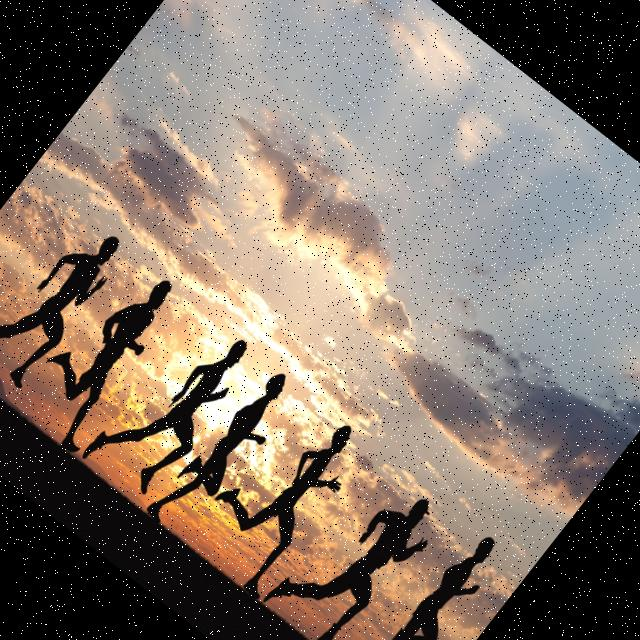Person: (182, 386, 378, 599), (8, 251, 196, 460), (80, 305, 264, 507), (260, 458, 449, 640), (144, 358, 306, 544), (0, 202, 131, 403), (345, 516, 509, 640)
